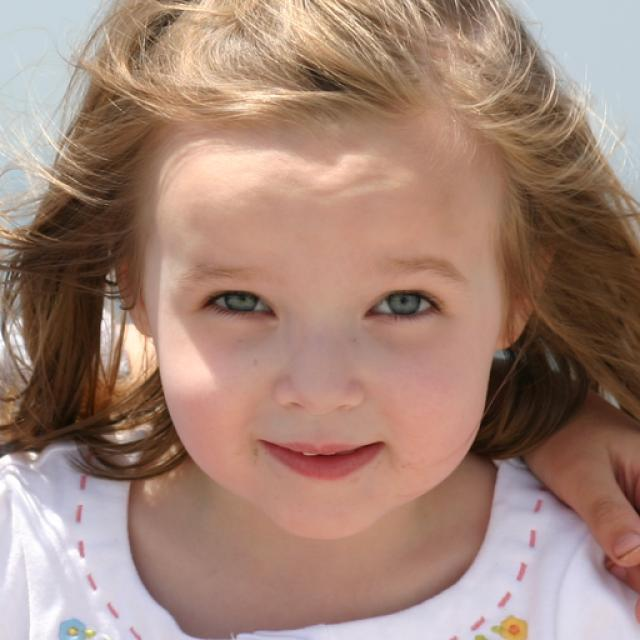happy: (151, 108, 501, 540)
